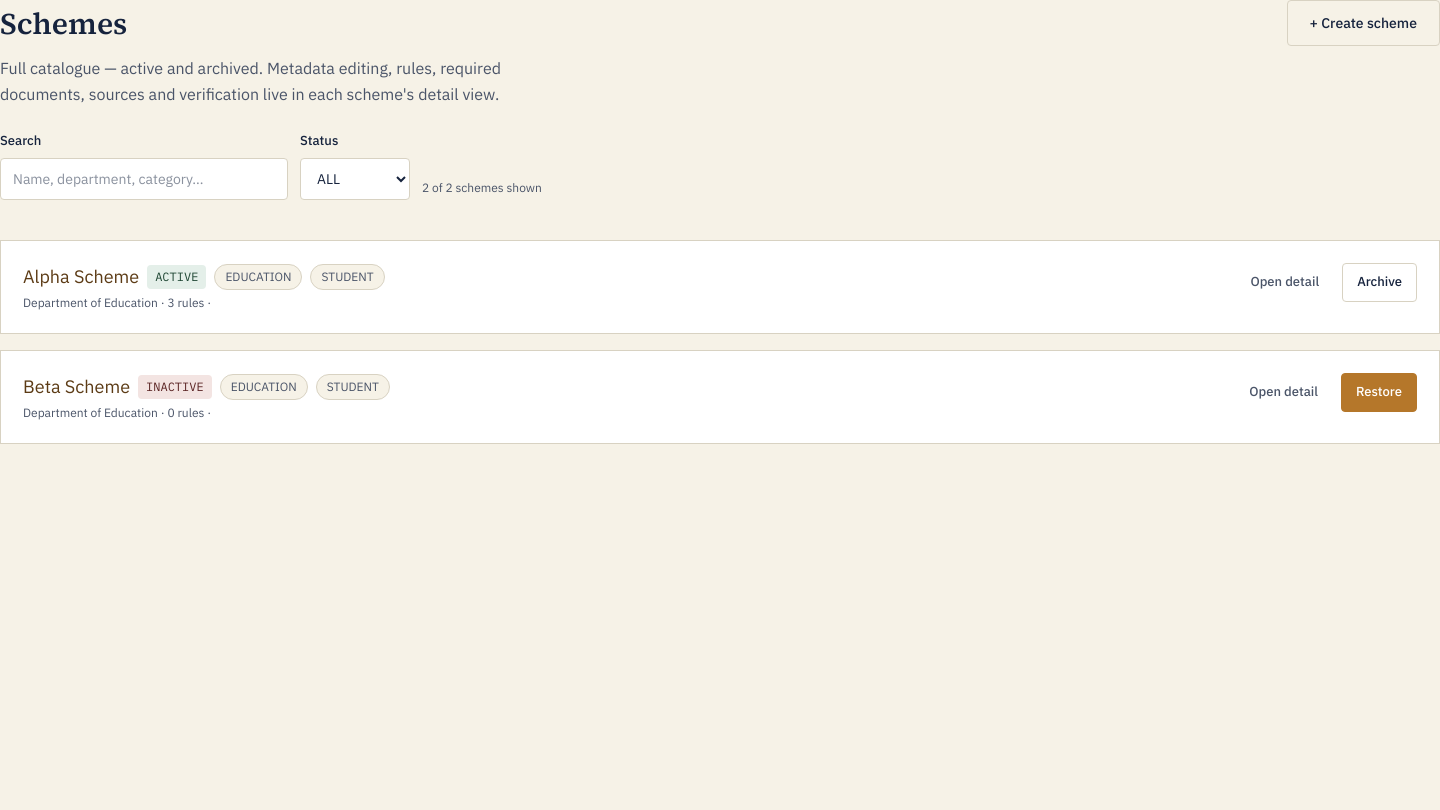
Test case: AdminSchemesPage — archive / restore › shows the API error when archive fails
This screenshot has width=1440, height=810.
Expected: the link "Alpha Scheme" is shown, [23, 263, 139, 291]
Click the button "Archive" at (1380, 282), box [1342, 263, 1417, 302]
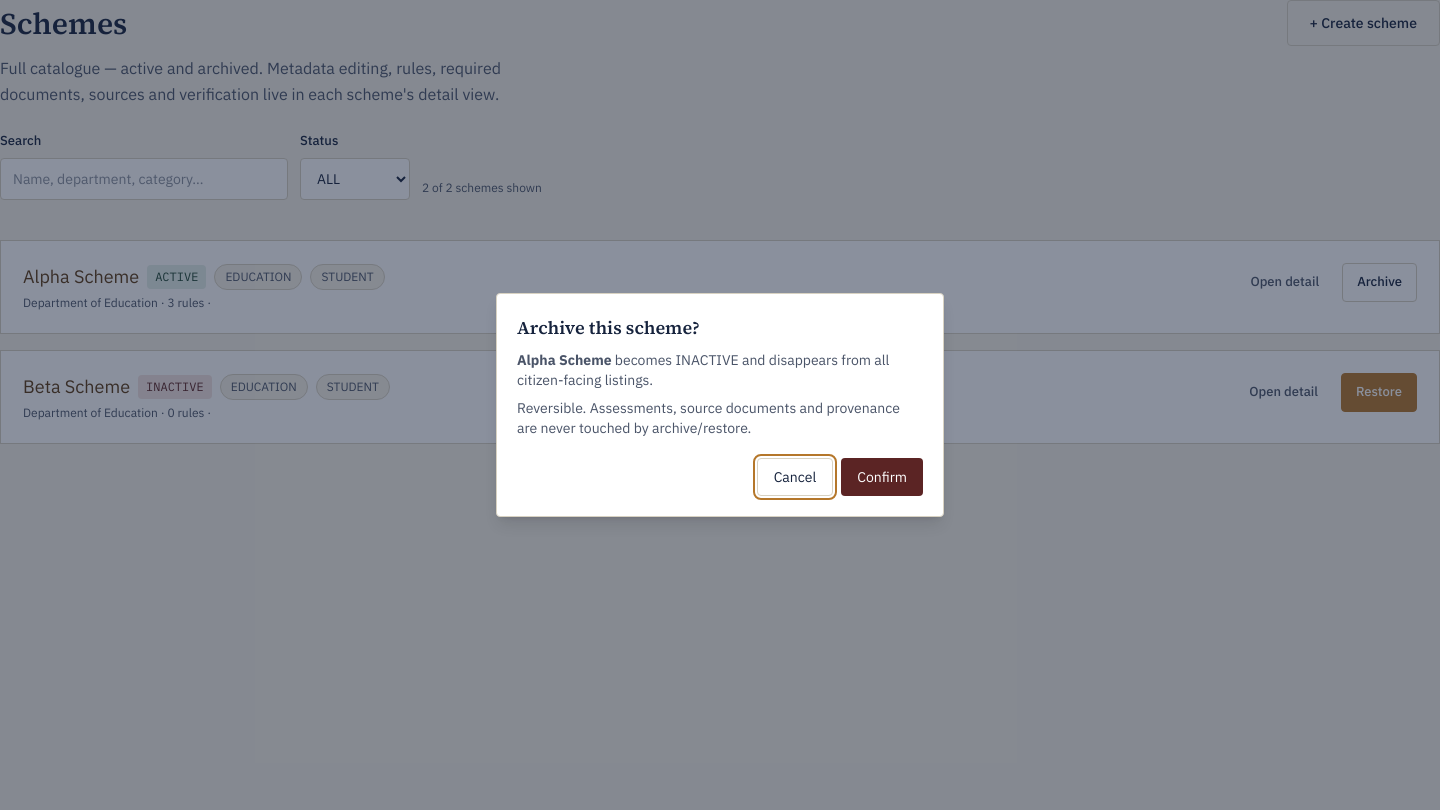
Click the button "Confirm" at (882, 477), box [841, 458, 923, 496]
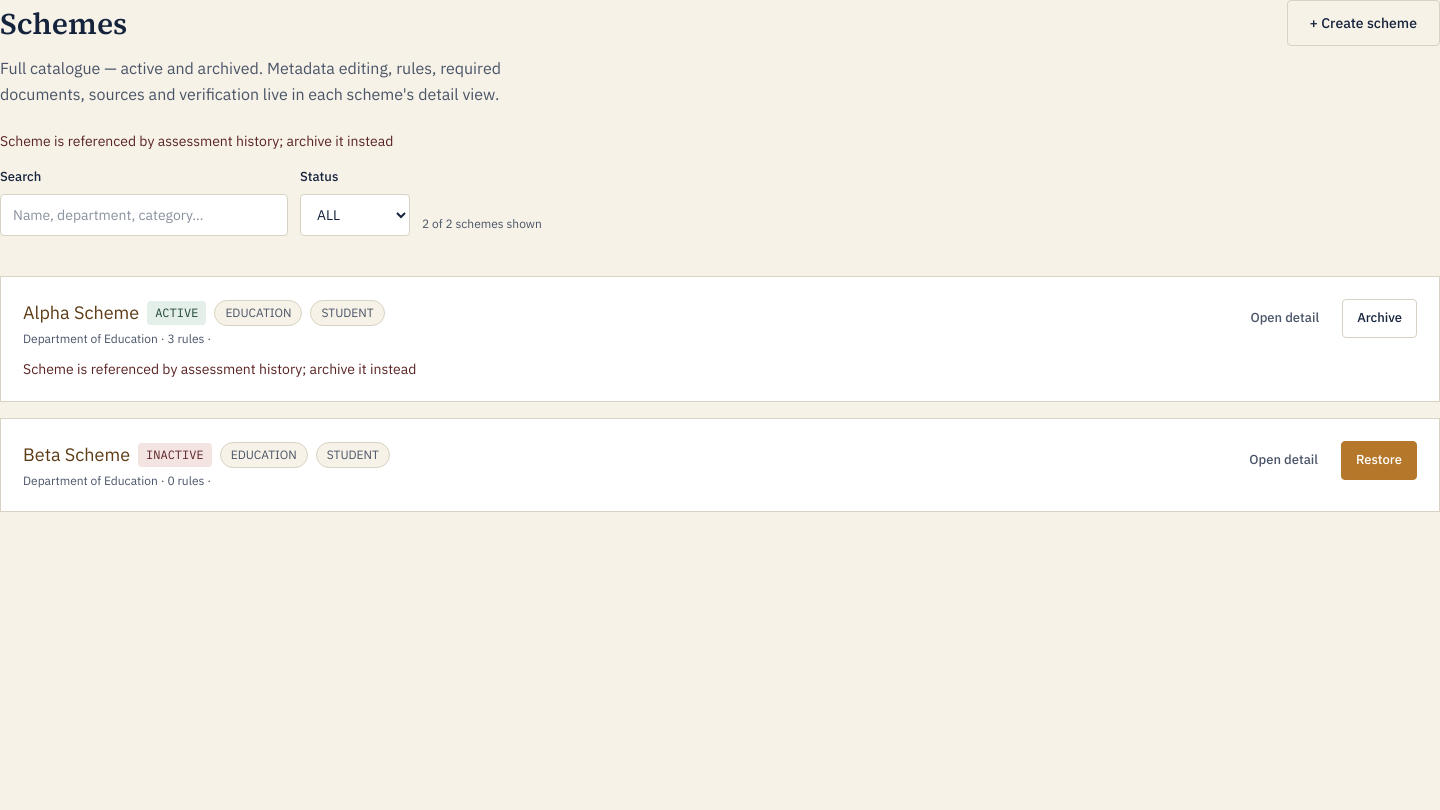
Expected: the 1st text "referenced by assessment history" is shown, [0, 132, 393, 150]
